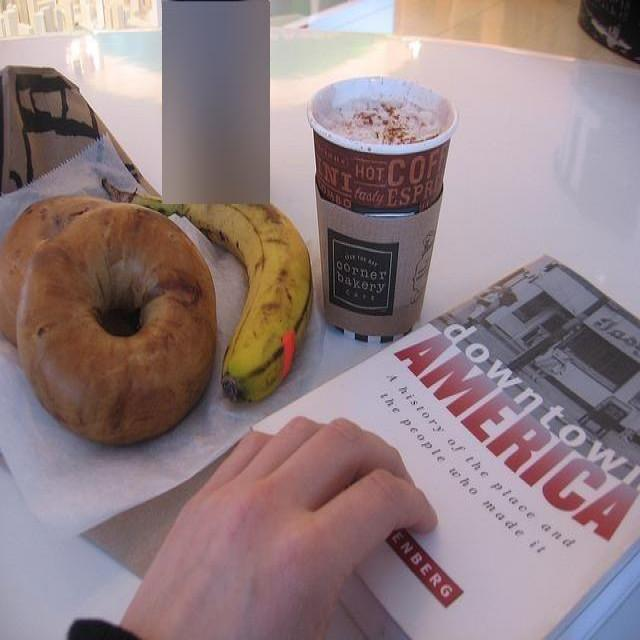cup-disposable: (306, 75, 458, 344)
